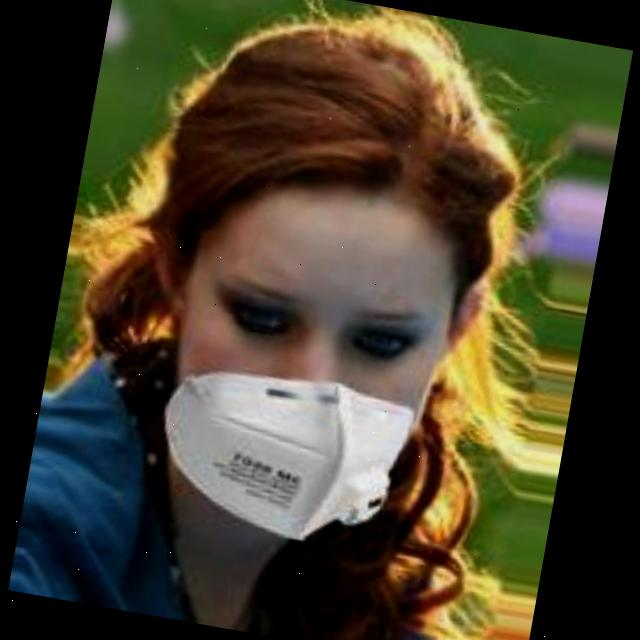suspicion: (94, 70, 536, 558)
